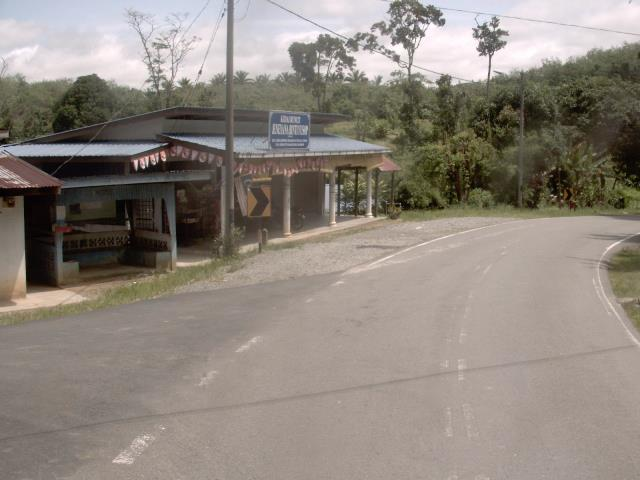traffic_sign: (239, 178, 280, 226)
